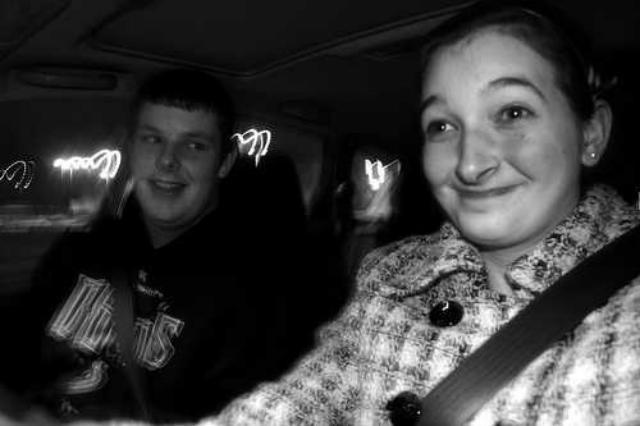SafeDriving: (488, 90, 542, 134), (419, 103, 467, 144), (178, 135, 212, 155), (135, 128, 167, 148)
Seatbelt: (414, 217, 640, 426)
